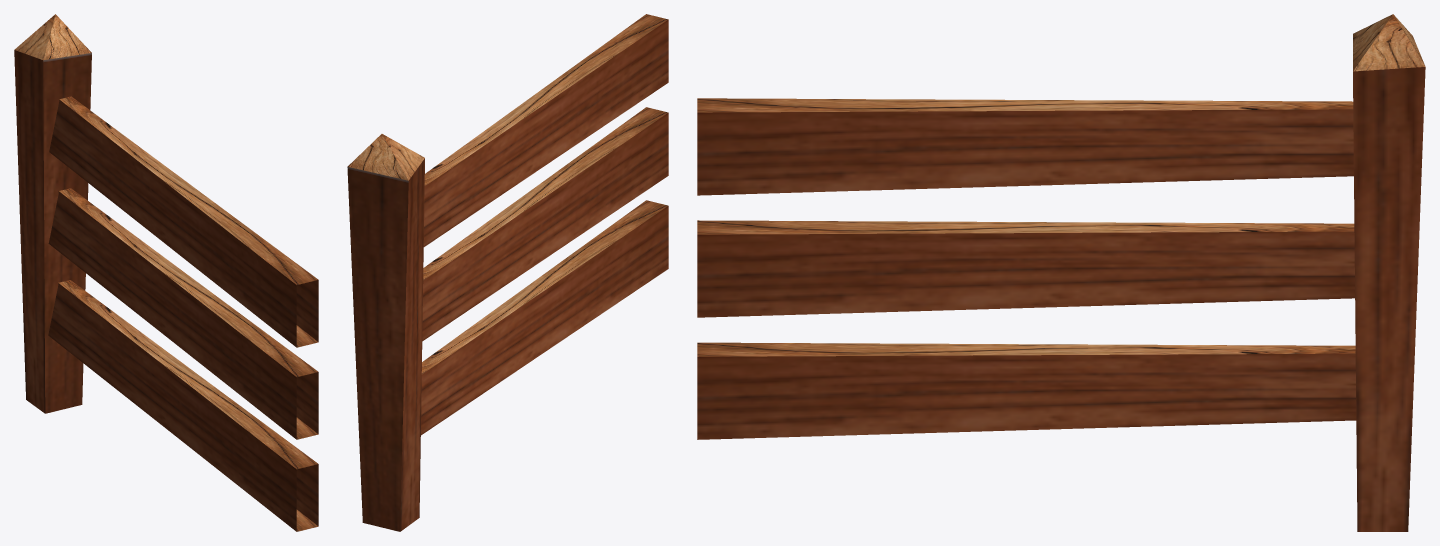
The model's file is corral_002.fbx.
The picture shows the model from 3 angles, left to right: view 1: azimuth 30°, elevation 25°; view 2: azimuth 150°, elevation 25°; view 3: azimuth 270°, elevation 25°; orthographic projection. The views are drawn at different scales.
Visible parts, largest first — view 1: corral.002; view 2: corral.002; view 3: corral.002.
Part boxes in pixels (x1,y1,x2,y2): corral.002: (14,14,318,531); corral.002: (347,14,668,531); corral.002: (697,14,1425,531).
Size of the model in its own units: 21.4 by 141 by 182.
